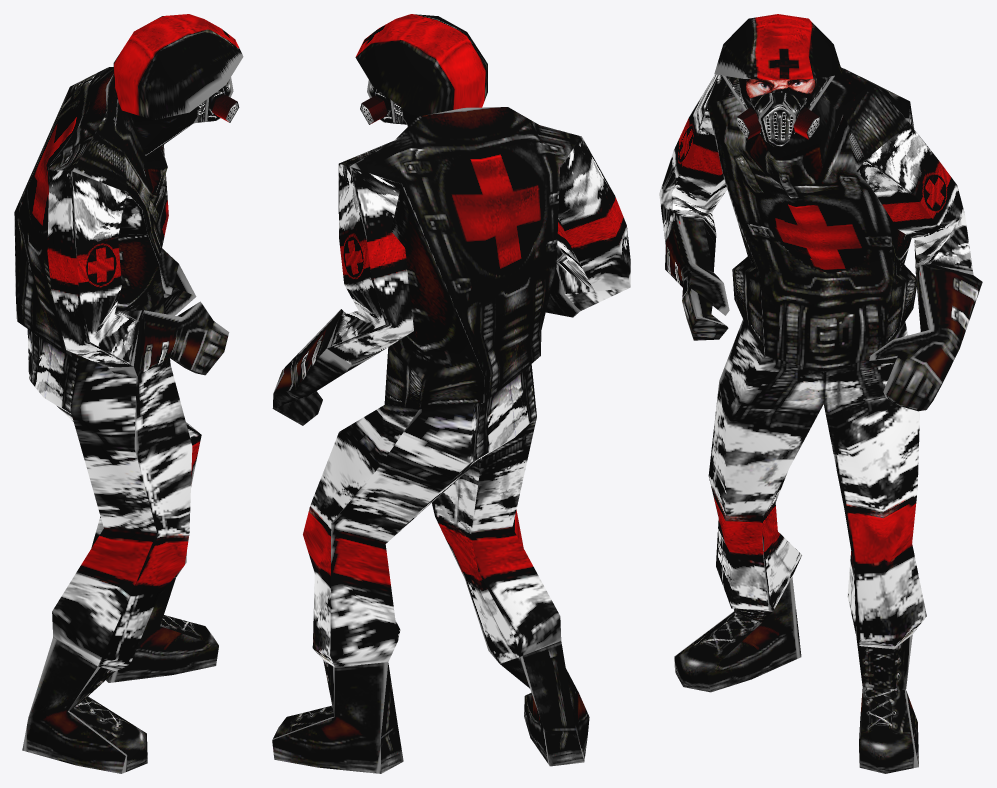
The model's file is medic.glb.
3 views of the same model, side by side, from view 1: azimuth 30°, elevation 25°; view 2: azimuth 150°, elevation 25°; view 3: azimuth 270°, elevation 25° (orthographic). The views are drawn at different scales.
Parts seen in each view (by area): view 1: medic; view 2: medic; view 3: medic.
Part boxes in pixels (bbox=[...]): medic: bbox=[14, 14, 243, 773]; medic: bbox=[272, 14, 630, 773]; medic: bbox=[659, 14, 982, 773].
Bounding box in the file's own units: 25.86 × 68.29 × 28.28.
2 materials, 2 textured.
